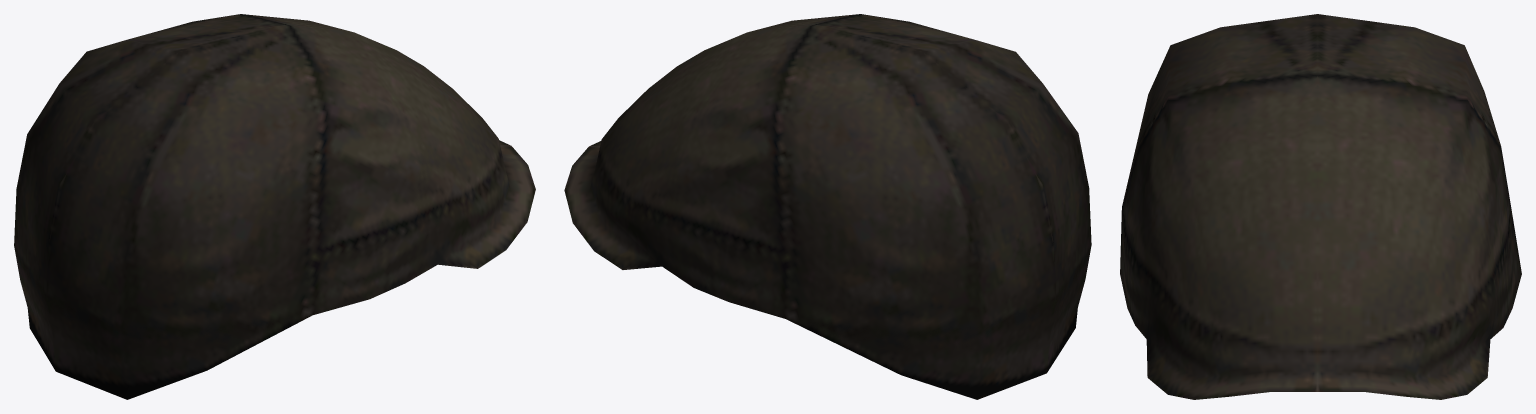
File: hat_0450028.FBX
3 renders of one model, left to right at view 1: azimuth 30°, elevation 25°; view 2: azimuth 150°, elevation 25°; view 3: azimuth 270°, elevation 25°, orthographic. The views are drawn at different scales.
Visible parts, largest first — view 1: hat_0450028; view 2: hat_0450028; view 3: hat_0450028.
Part boxes in pixels (left/top/right/bottom): hat_0450028: left=14, top=14, right=535, bottom=399; hat_0450028: left=564, top=14, right=1091, bottom=399; hat_0450028: left=1120, top=14, right=1521, bottom=399.
Size of the model in its own units: 29.76 by 17.73 by 19.88.
